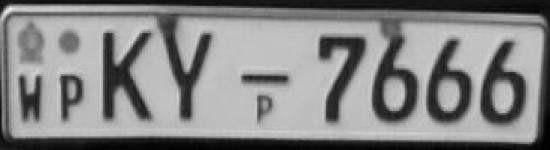-: (238, 65, 294, 93)
6: (425, 32, 478, 137), (371, 30, 424, 130), (478, 35, 532, 131)
7: (310, 22, 371, 128)
K: (93, 26, 158, 134)
P: (53, 63, 88, 125)
W: (11, 68, 50, 130)
Y: (161, 19, 219, 131)
